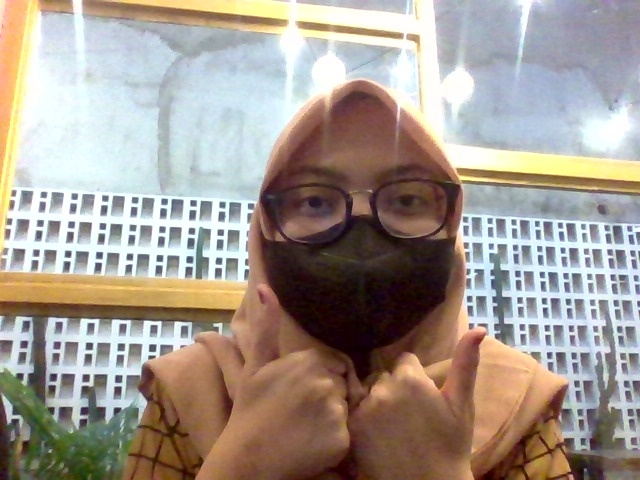Awake: (244, 73, 469, 352)
